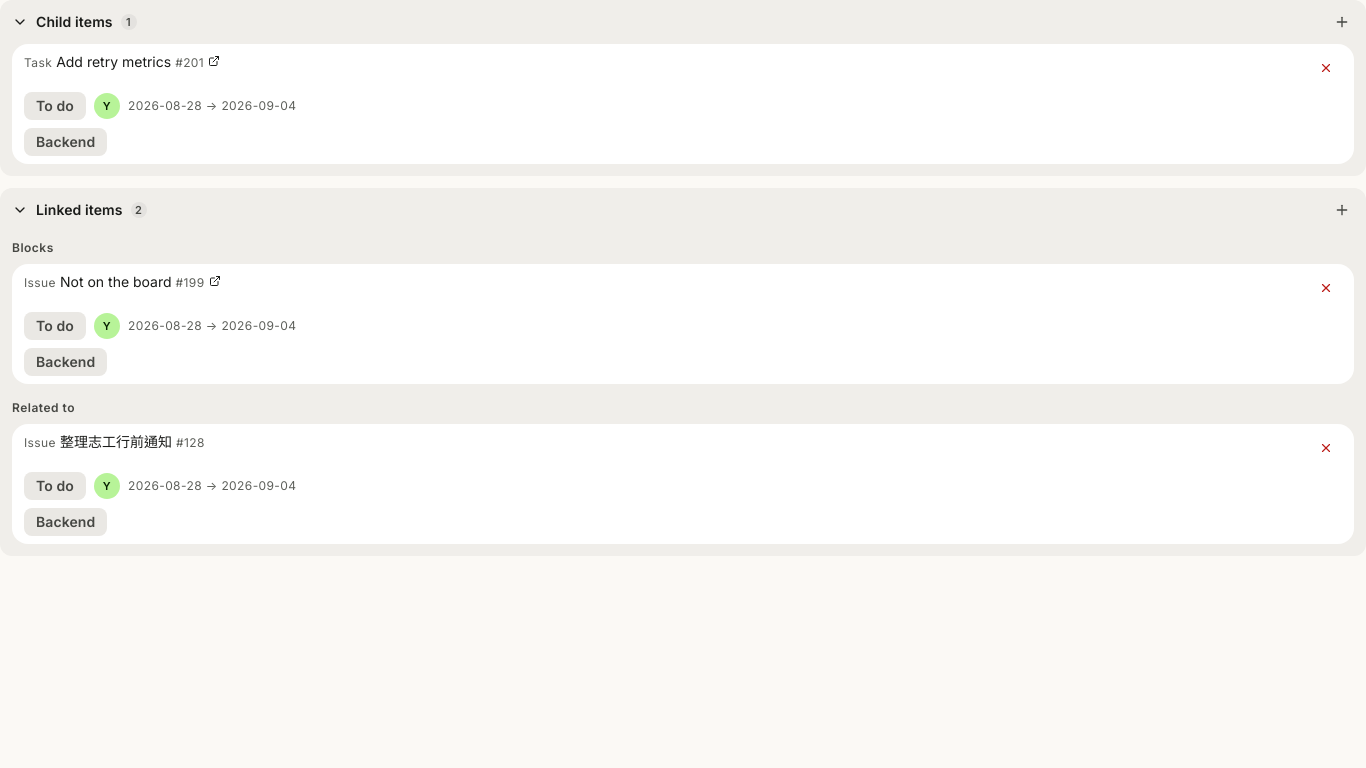
Test: CardRelationships › rolls an optimistic removal back when GitLab rejects it
Expected: the text "Not on the board" is shown, [60,272,172,292]
Click the button named "移除 Linked item #199": [1326, 288] box [1310,272,1342,304]
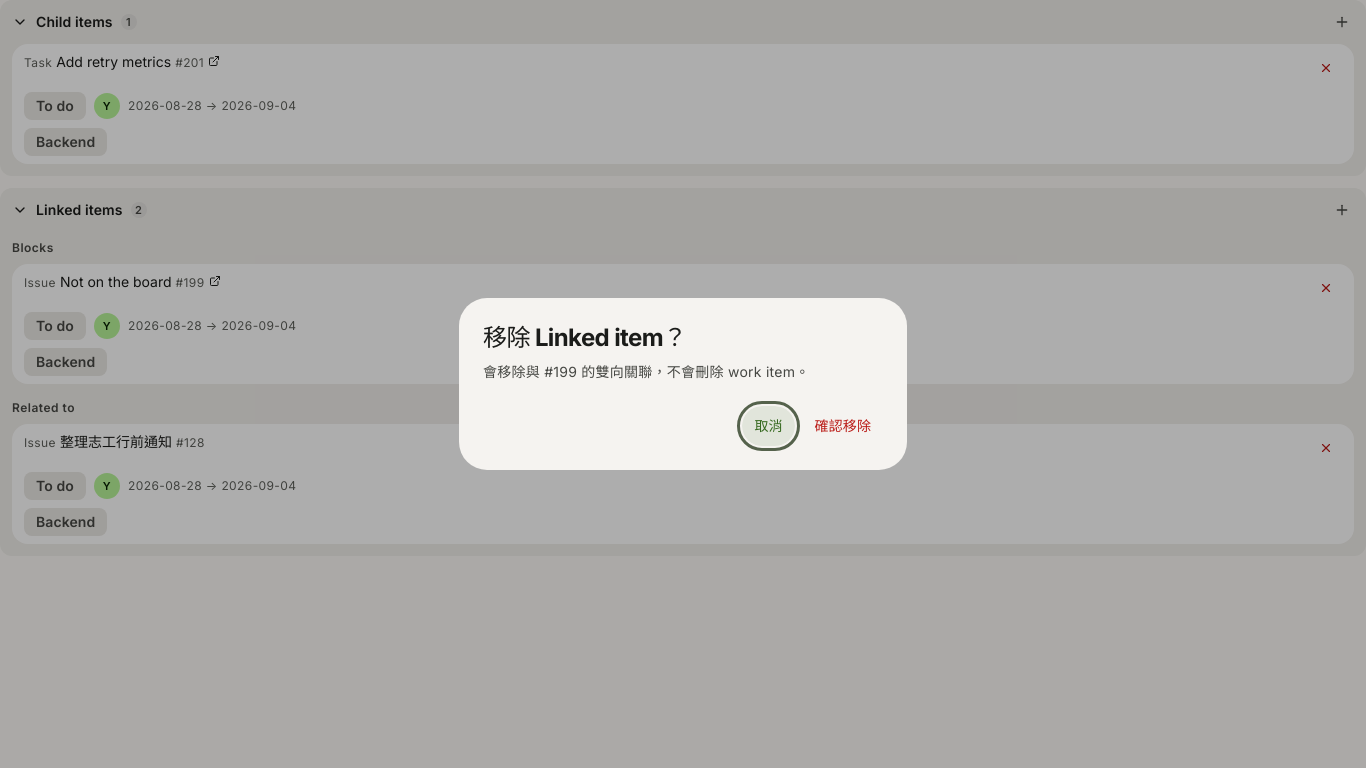
Click the button "確認移除": [843, 426] box [803,406,883,446]
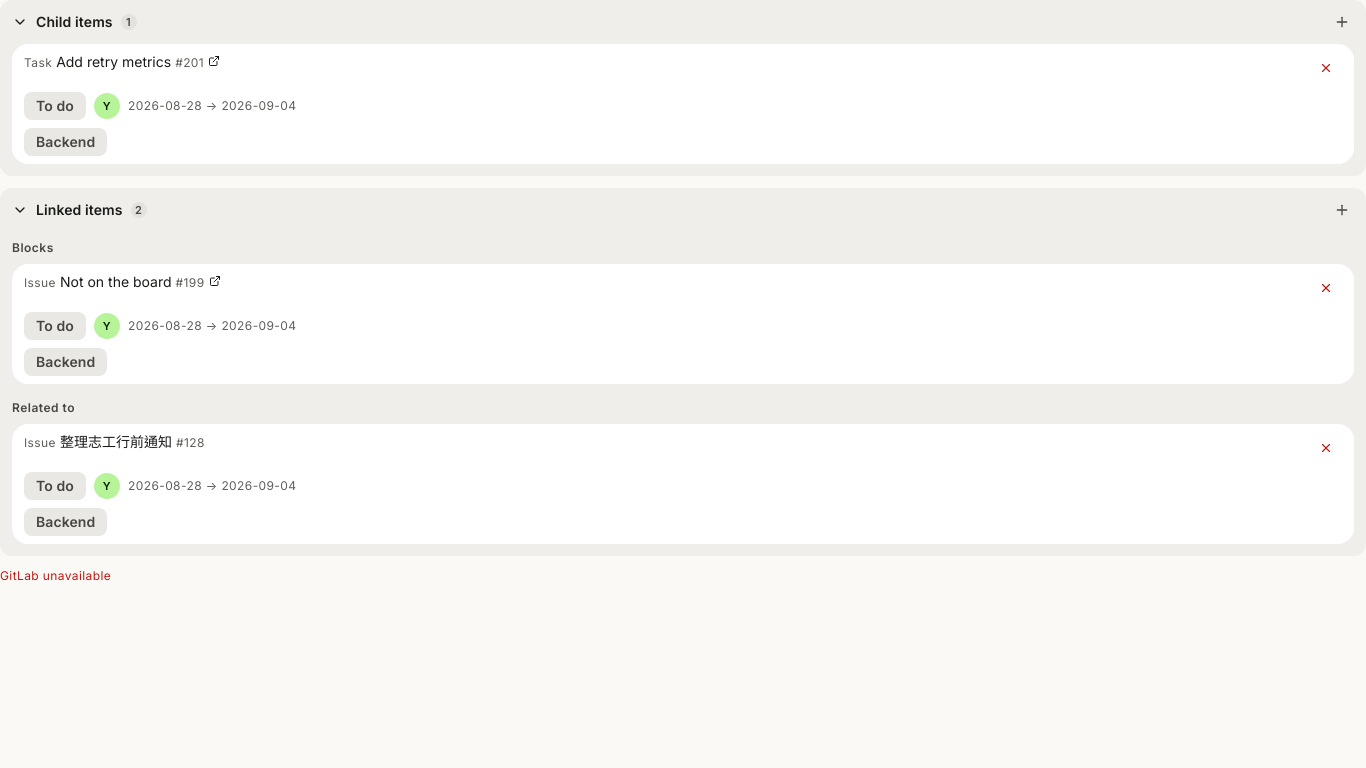
Expected: the text "Not on the board" is shown, [60,272,172,292]
Result: the message reads "GitLab unavailable" at [0,568,111,583]
